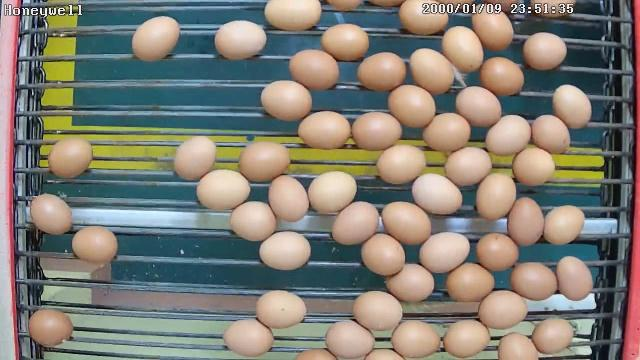egg: (194, 168, 252, 214), (130, 13, 181, 63), (380, 200, 433, 248), (236, 138, 290, 184), (410, 171, 464, 217), (296, 108, 352, 151), (386, 82, 436, 130), (330, 200, 380, 248), (418, 230, 471, 275), (213, 18, 267, 62), (288, 48, 342, 92), (259, 79, 313, 123), (470, 3, 516, 54), (408, 46, 456, 94), (478, 286, 528, 332), (454, 84, 504, 130), (306, 169, 356, 215), (384, 261, 436, 305), (350, 110, 404, 152), (258, 230, 312, 272), (254, 288, 308, 330), (473, 171, 518, 221), (356, 51, 407, 95), (376, 142, 427, 186), (444, 261, 496, 304), (420, 110, 472, 153), (351, 288, 403, 331), (484, 112, 532, 158), (228, 199, 278, 243), (441, 23, 484, 74), (222, 316, 274, 358), (389, 318, 442, 359), (323, 318, 376, 359), (172, 134, 217, 182), (443, 145, 492, 189), (318, 22, 371, 62), (268, 174, 310, 224), (359, 232, 406, 276), (46, 137, 94, 180), (508, 260, 558, 301), (441, 318, 492, 358), (506, 196, 545, 248), (30, 192, 74, 238), (479, 56, 526, 99), (26, 308, 74, 350), (263, 0, 323, 33), (552, 83, 594, 130), (70, 226, 119, 266), (398, 0, 449, 38), (542, 202, 586, 246), (476, 231, 520, 275), (522, 30, 568, 72), (512, 144, 556, 187), (532, 315, 576, 357), (556, 254, 594, 302), (530, 114, 572, 156)
